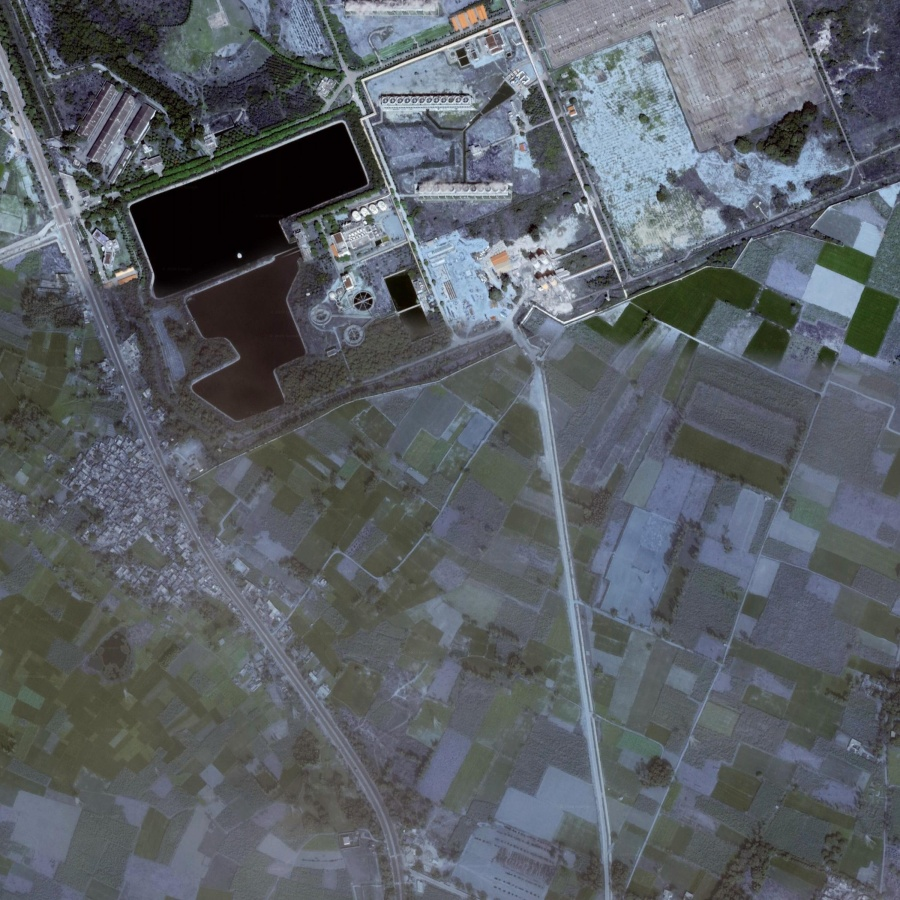PowerPlant: (109, 113, 379, 341)
